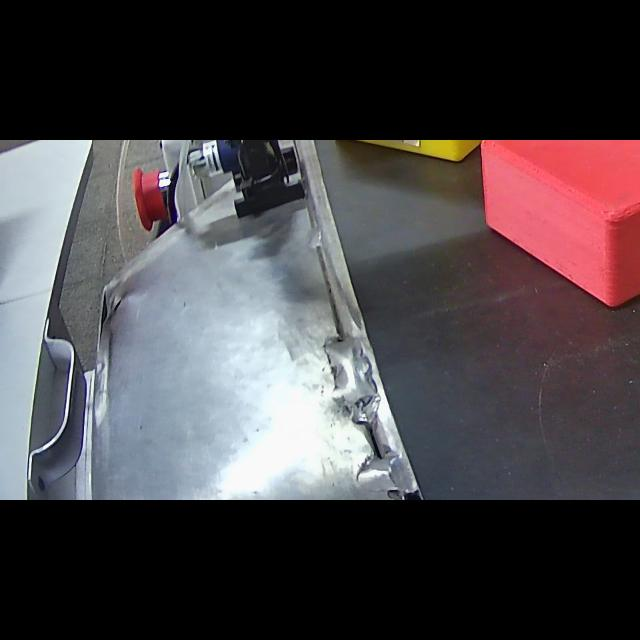redBox: (476, 140, 640, 312)
yellowBox: (321, 140, 525, 176)
